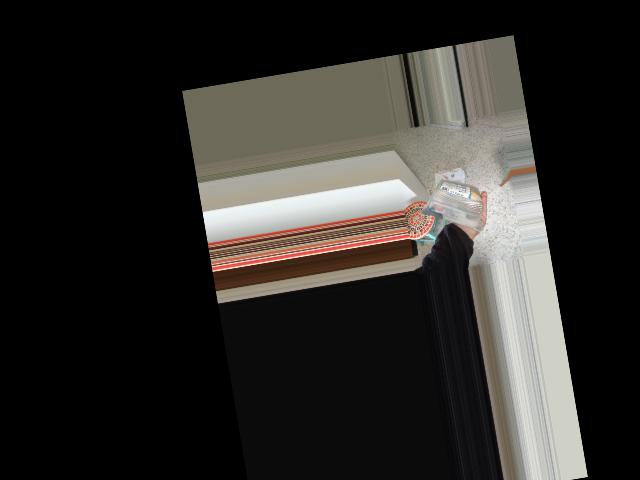cheese: (435, 160, 473, 227)
